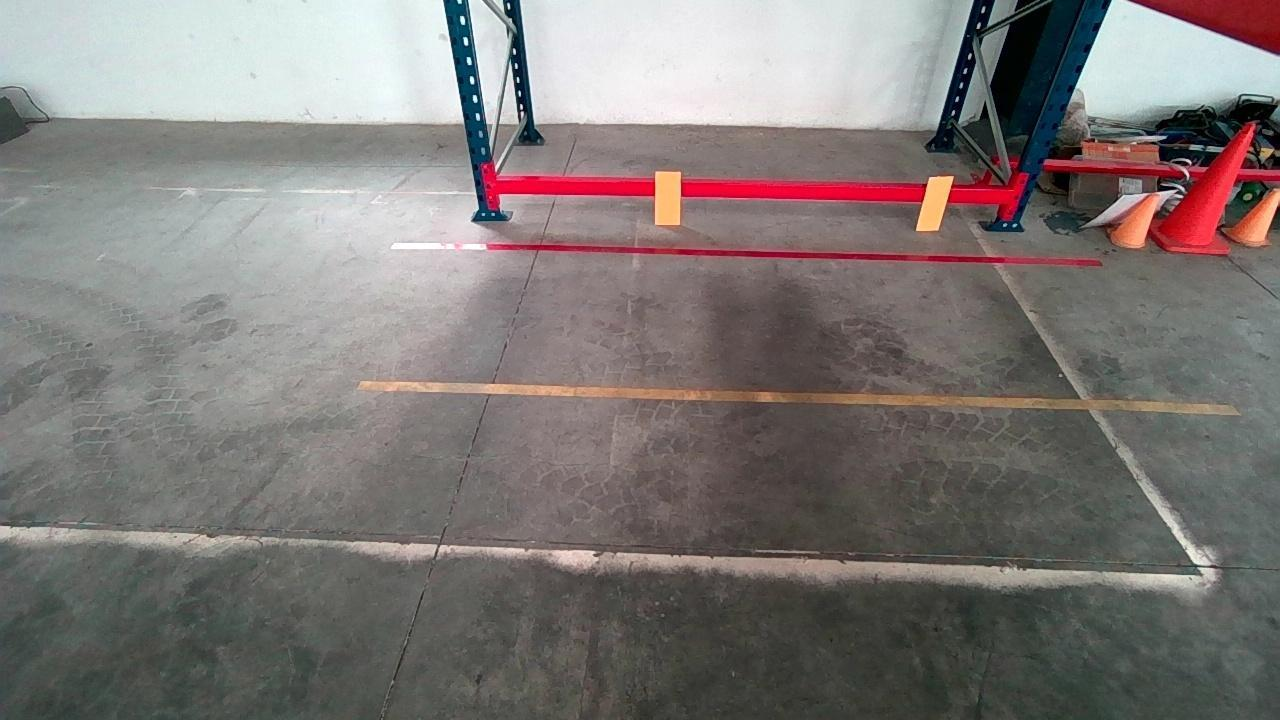h_rack: (484, 178, 1008, 207)
orange_strip: (916, 175, 954, 229), (655, 169, 682, 225)
red_line: (392, 238, 1097, 265)
yellow_line: (379, 376, 1222, 419)
